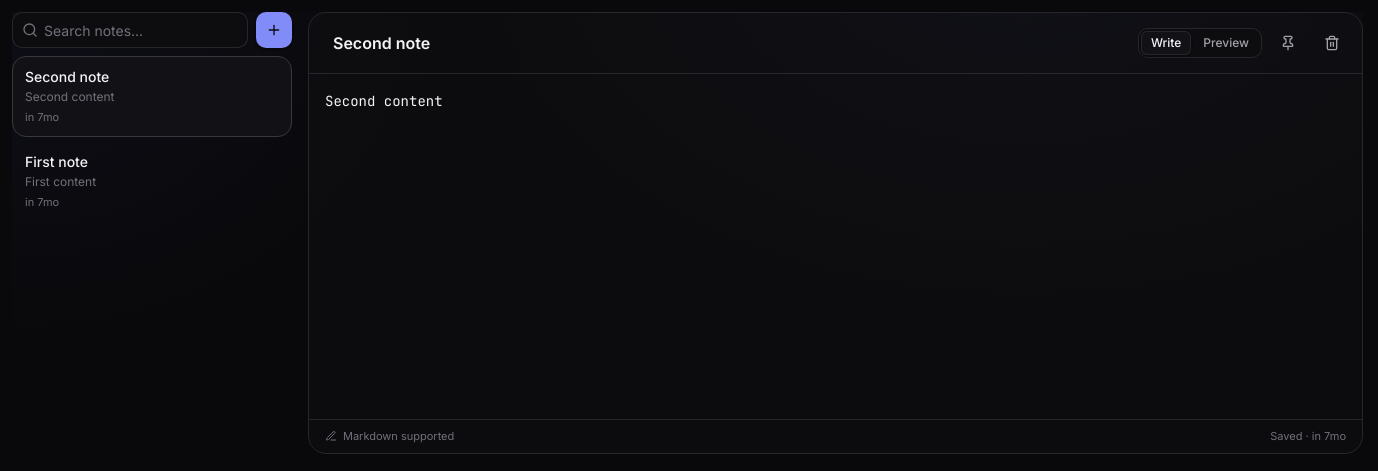
Test case: NotesView autosave › does not update the store on every keystroke and saves after the debounce
This screenshot has width=1378, height=471.
Replace the text in the text box with placeholder "Start writing in Markdown…" with "Changed draft" at (836, 247), box [325,90,1346,403]
Wait 600 ms
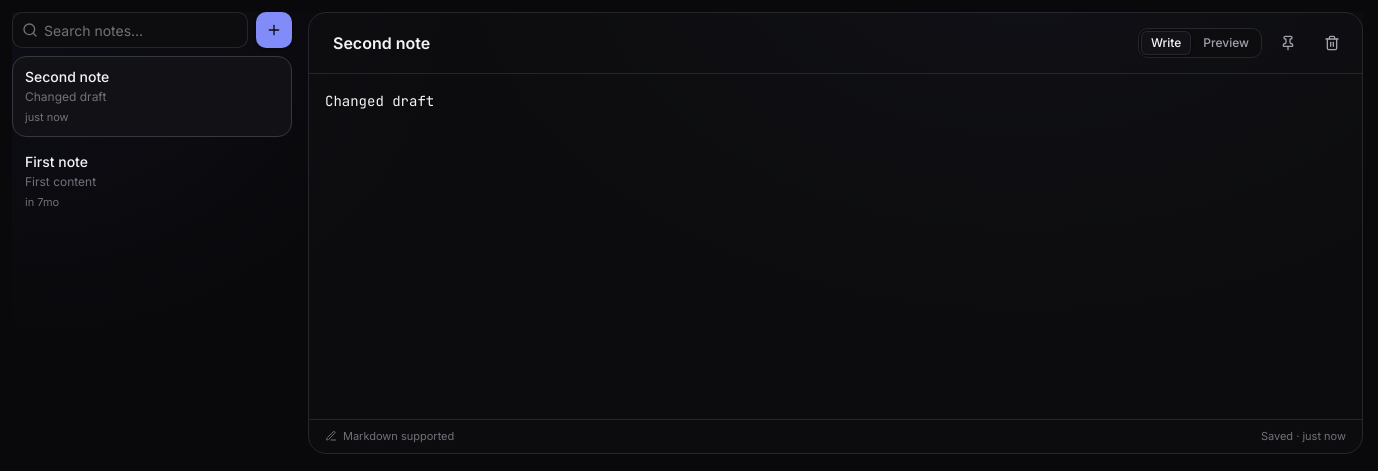
expect the text "Changed draft" is shown: met, box [25,89,106,104]
